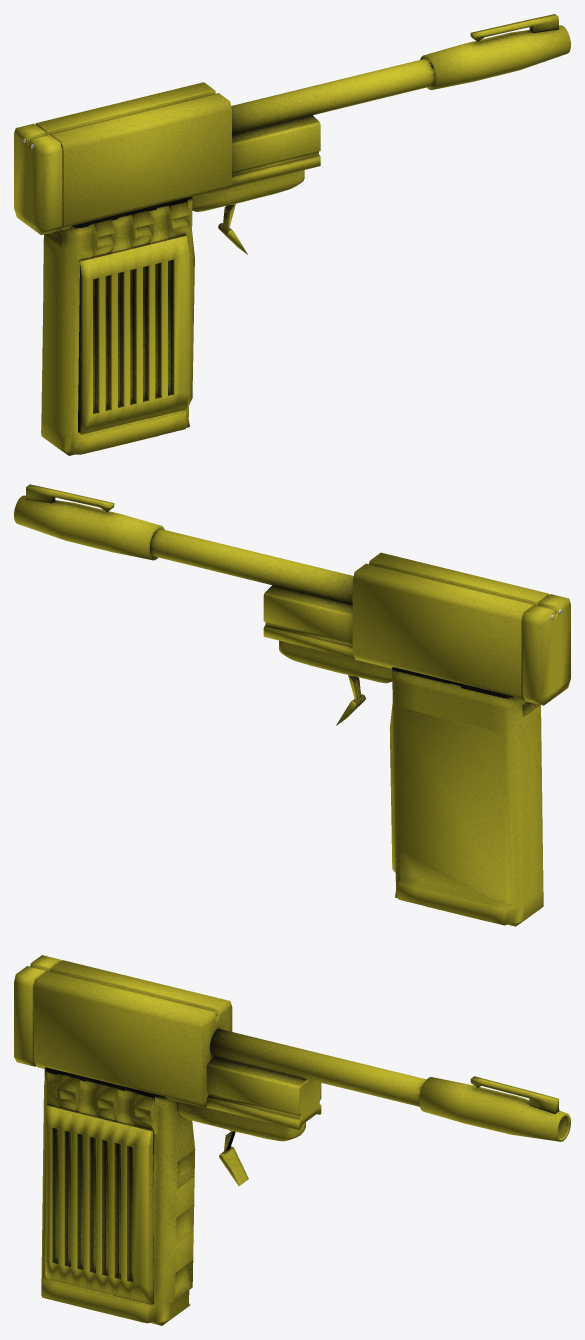
The model's file is goldengun.fbx.
The picture shows the model from 3 angles, top to bottom: view 1: azimuth 30°, elevation 25°; view 2: azimuth 150°, elevation 25°; view 3: azimuth 330°, elevation 25°; orthographic projection.
Parts seen in each view (by area): view 1: Cube_002; view 2: Cube_002; view 3: Cube_002.
Boxes of the visible parts, bbox=[...] form: Cube_002: bbox=[14, 14, 570, 455]; Cube_002: bbox=[14, 484, 570, 926]; Cube_002: bbox=[14, 955, 570, 1325].
Size of the model in its own units: 22.02 by 12.71 by 2.84.
